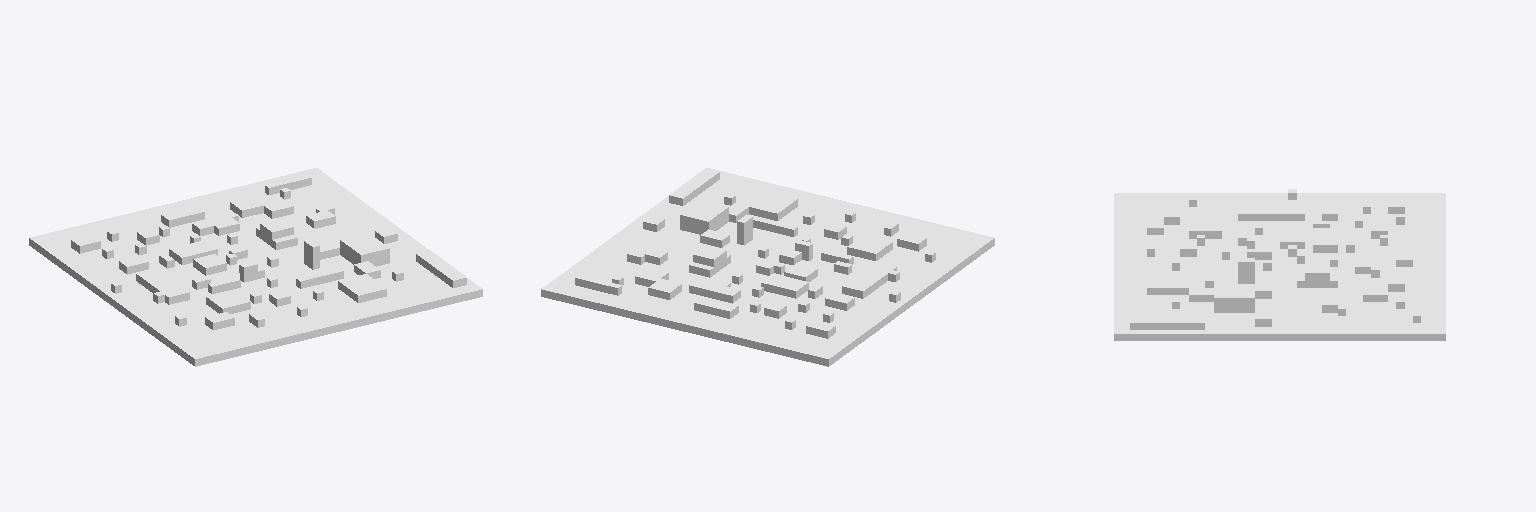
Rendered from place.obj.
3 views of the same model, side by side, from view 1: azimuth 30°, elevation 25°; view 2: azimuth 150°, elevation 25°; view 3: azimuth 270°, elevation 25° (orthographic).
Parts seen in each view (by area): view 1: object 1; view 2: object 1; view 3: object 1.
Boxes of the visible parts, x1=… form: object 1: x1=29, y1=168, x2=482, y2=366; object 1: x1=541, y1=168, x2=994, y2=366; object 1: x1=1114, y1=189, x2=1445, y2=340.
Bounding box in the file's own units: 4 × 0.4 × 4.